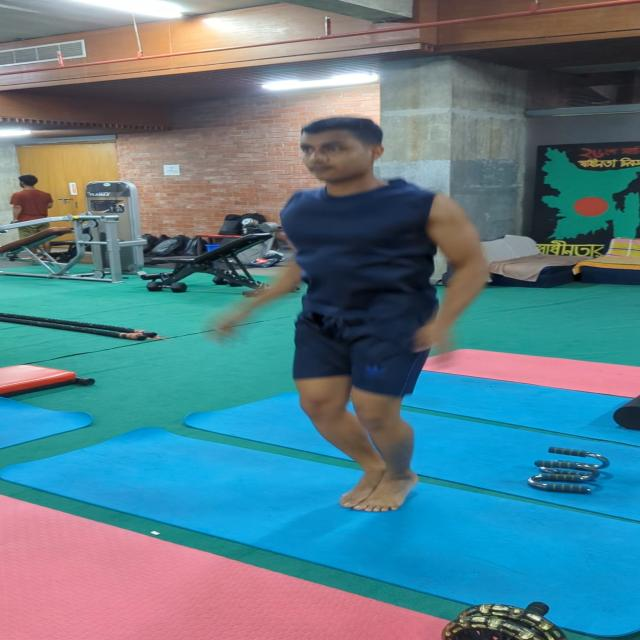Normal_JumpingJacks: (203, 94, 520, 536)
